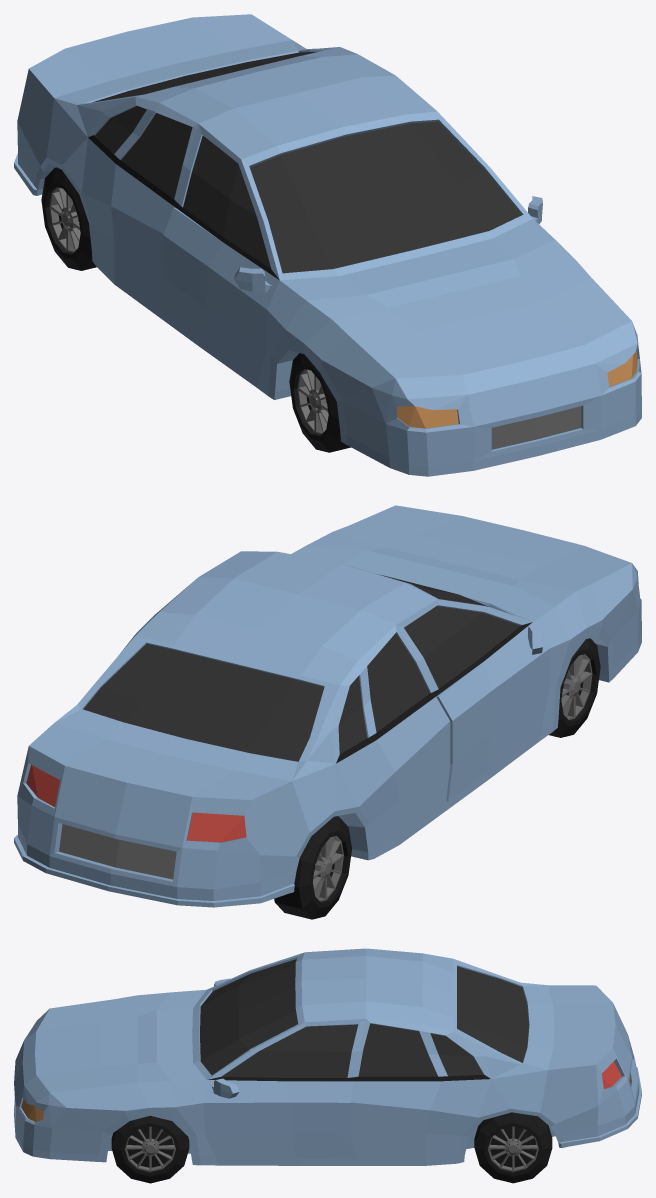
File: sedan-family.glb
The picture shows the model from 3 angles, top to bottom: view 1: azimuth 30°, elevation 25°; view 2: azimuth 150°, elevation 25°; view 3: azimuth 270°, elevation 25°; orthographic projection. The views are drawn at different scales.
Visible parts, largest first — view 1: sedan-family; view 2: sedan-family; view 3: sedan-family.
Part boxes in pixels (x1,y1,x2,y2): sedan-family: (14,14,641,476); sedan-family: (14,505,641,919); sedan-family: (14,948,641,1183).
Size of the model in its own units: 1.95 by 1.31 by 4.7.
